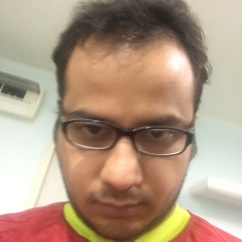glasses: (56, 113, 194, 158)
